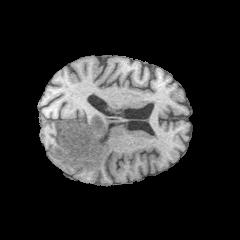glioma: (52, 115, 111, 172)
